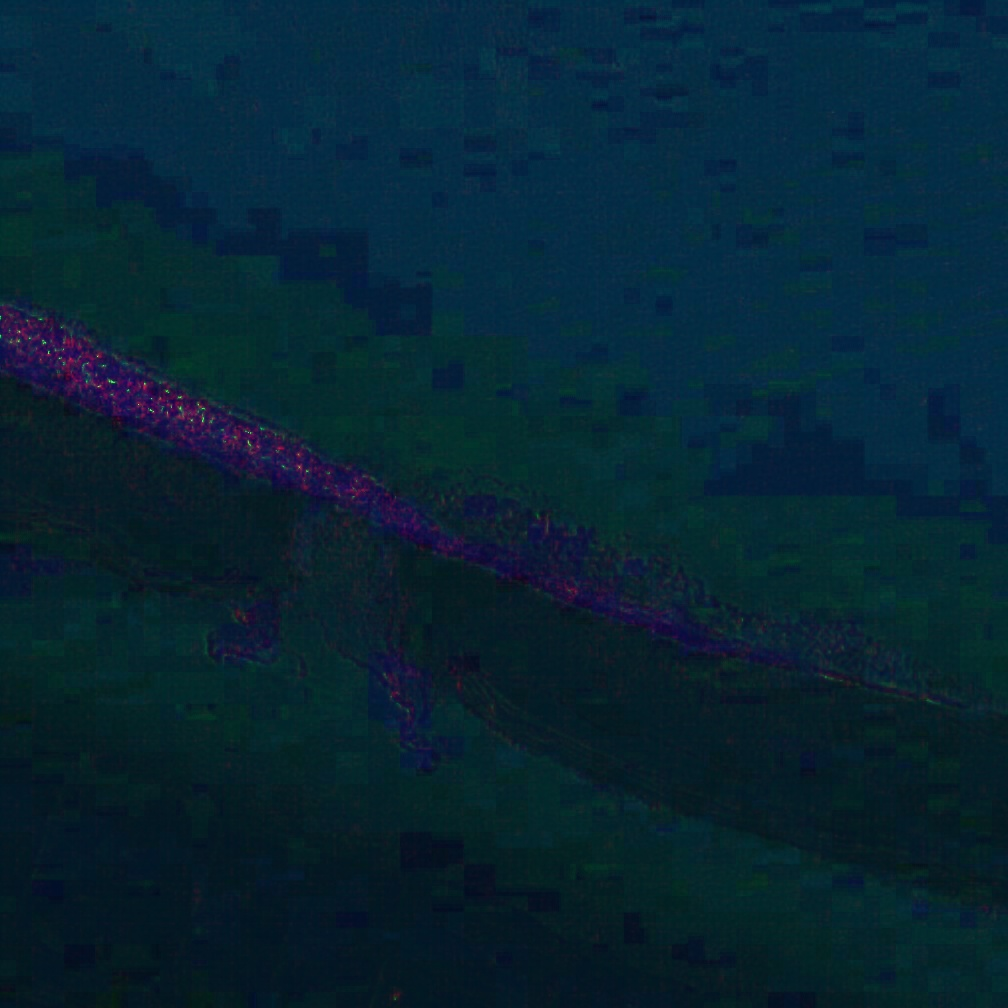rip_current: (246, 407, 426, 621)
